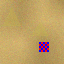structure: (2, 6, 20, 25), (31, 21, 49, 35)
